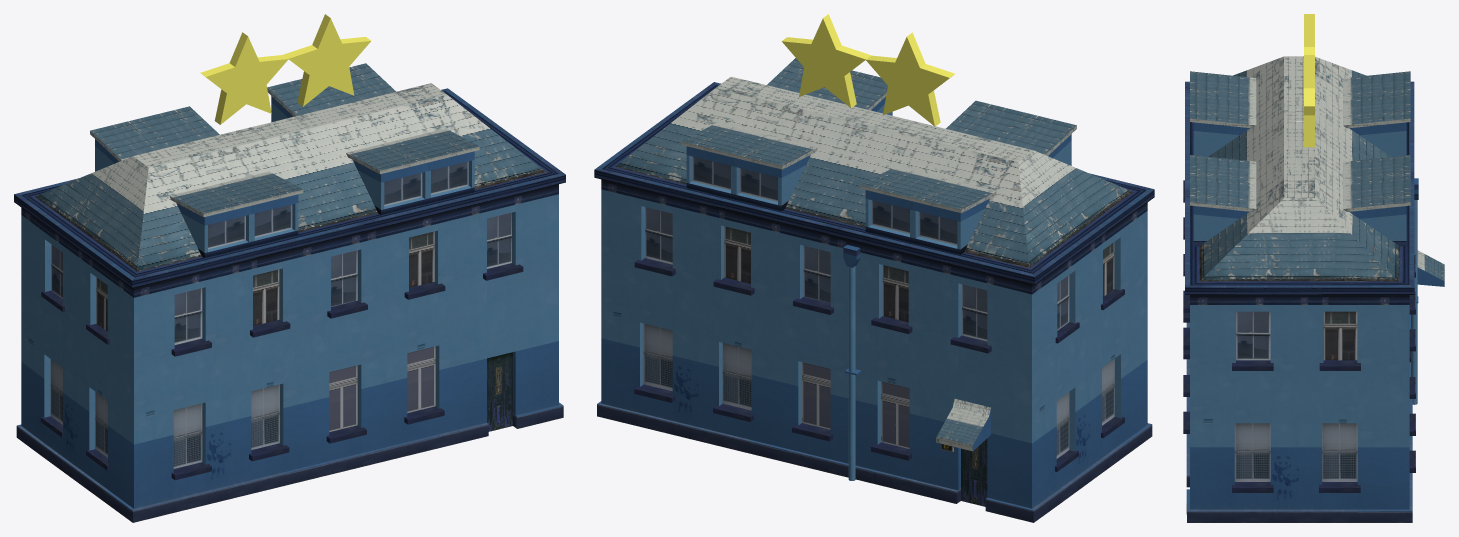
The model's file is 一二星级酒店.gltf.
The picture shows the model from 3 angles, left to right: view 1: azimuth 30°, elevation 25°; view 2: azimuth 150°, elevation 25°; view 3: azimuth 270°, elevation 25°; orthographic projection. The views are drawn at different scales.
Visible parts, largest first — view 1: node__-13666, node_star (1)_-13674, node_star (2)_-13676; view 2: node__-13666, node_star (1)_-13674, node_star (2)_-13676; view 3: node__-13666, node_star (2)_-13676, node_star (1)_-13674.
Boxes of the visible parts, <box> form: node__-13666: <box>14,63,565,522</box>; node_star (1)_-13674: <box>200,32,288,124</box>; node_star (2)_-13676: <box>283,14,370,106</box>; node__-13666: <box>594,58,1154,522</box>; node_star (1)_-13674: <box>865,32,954,126</box>; node_star (2)_-13676: <box>781,14,871,107</box>; node__-13666: <box>1183,56,1444,522</box>; node_star (2)_-13676: <box>1304,55,1314,147</box>; node_star (1)_-13674: <box>1304,14,1314,54</box>.
Bounding box in the file's own units: 10.56 × 9.25 × 5.64.
